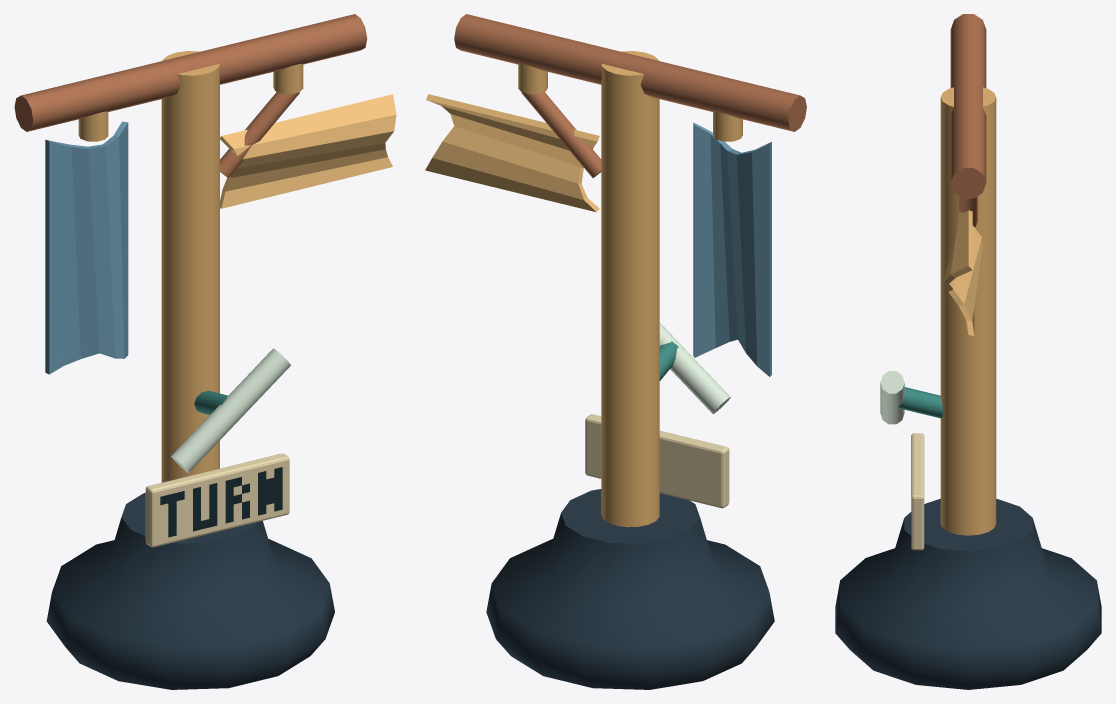
3 views of the same model, side by side, from view 1: azimuth 30°, elevation 25°; view 2: azimuth 150°, elevation 25°; view 3: azimuth 270°, elevation 25° (orthographic). The views are drawn at different scales.
Parts seen in each view (by area): view 1: PR067 enamel and hardware; view 2: PR067 enamel and hardware; view 3: PR067 enamel and hardware.
Part boxes in pixels (box(x1,y1,x2,y2)): PR067 enamel and hardware: box(14, 14, 396, 689); PR067 enamel and hardware: box(425, 14, 806, 689); PR067 enamel and hardware: box(835, 14, 1101, 689).
Bounding box in the file's own units: 0.8 × 1.2 × 0.5289.
